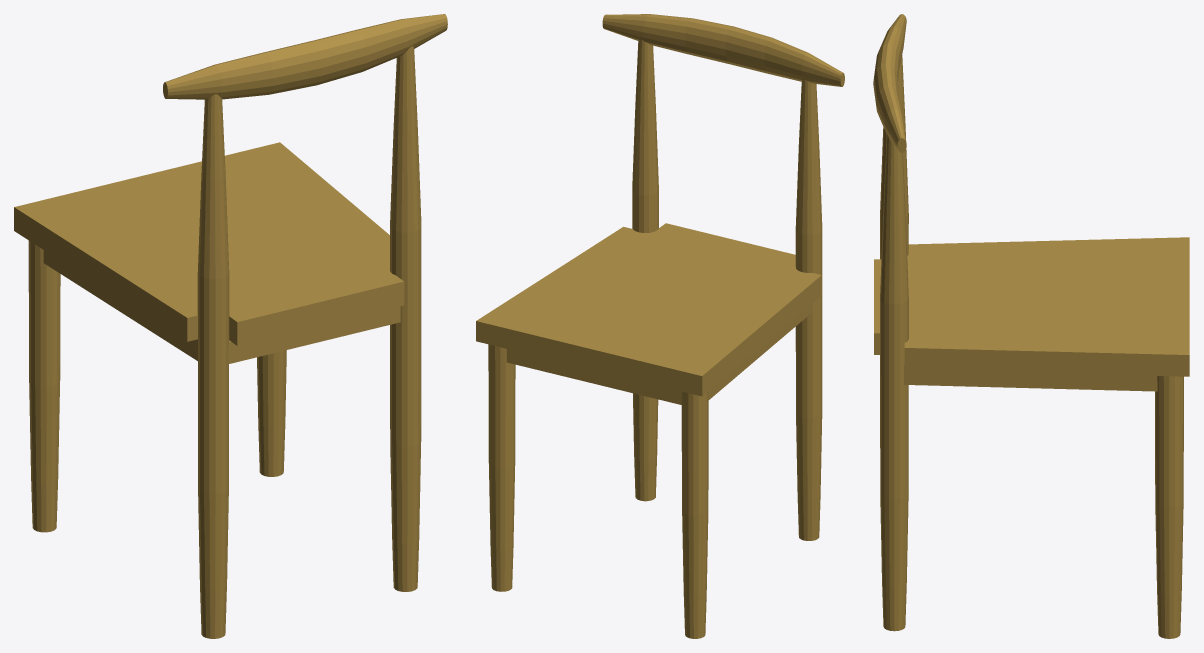
File: Kursi.fbx
3 renders of one model, left to right at view 1: azimuth 30°, elevation 25°; view 2: azimuth 150°, elevation 25°; view 3: azimuth 270°, elevation 25°, orthographic. The views are drawn at different scales.
Parts seen in each view (by area): view 1: Cube.002; view 2: Cube.002; view 3: Cube.002.
Boxes of the visible parts, bbox=[...] form: Cube.002: bbox=[14, 14, 447, 638]; Cube.002: bbox=[476, 14, 844, 638]; Cube.002: bbox=[873, 14, 1189, 638].
Bounding box in the file's own units: 40 × 78.23 × 43.12.
